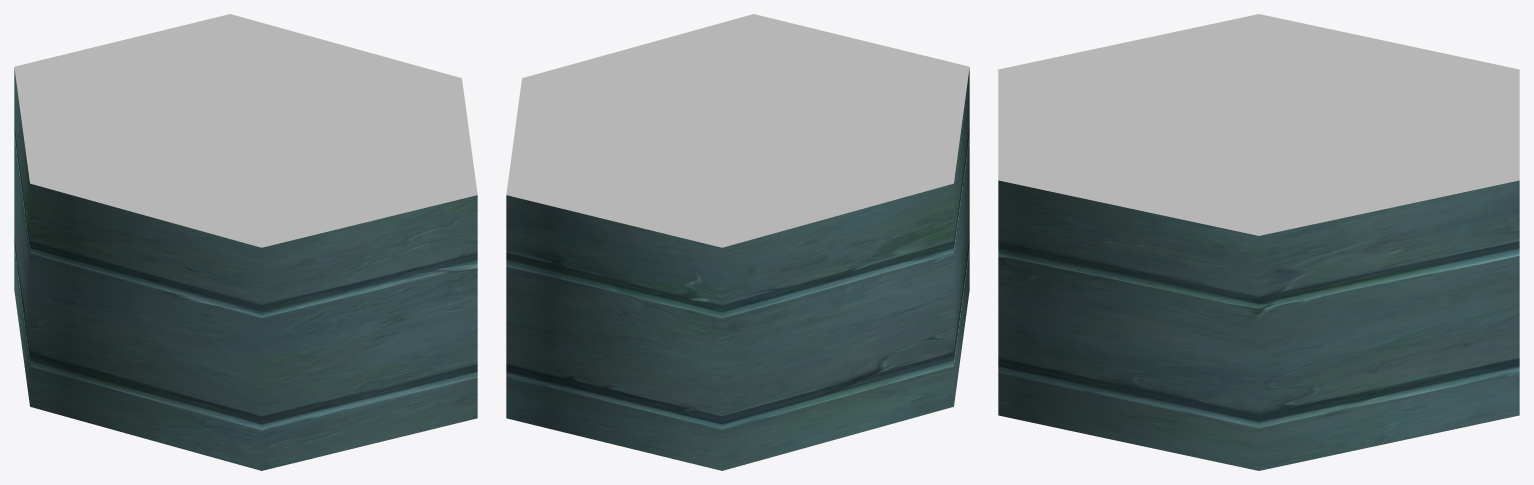
Rendered from 普通格子.FBX.
3 renders of one model, left to right at view 1: azimuth 30°, elevation 25°; view 2: azimuth 150°, elevation 25°; view 3: azimuth 270°, elevation 25°, orthographic. The views are drawn at different scales.
Visible parts, largest first — view 1: 对象002, Cylinder001; view 2: 对象002, Cylinder001; view 3: 对象002, Cylinder001.
Part boxes in pixels (left/top/right/bottom): 对象002: left=14, top=68, right=477, bottom=470; Cylinder001: left=14, top=14, right=477, bottom=247; 对象002: left=506, top=68, right=969, bottom=470; Cylinder001: left=506, top=14, right=969, bottom=247; 对象002: left=998, top=180, right=1519, bottom=470; Cylinder001: left=998, top=14, right=1519, bottom=235.
Size of the model in its own units: 121 by 59.57 by 120.
